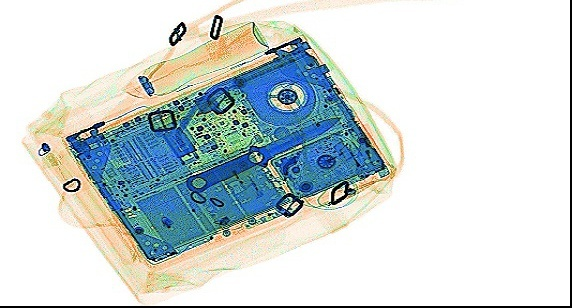knife: (183, 115, 339, 192)
lighter: (216, 142, 265, 200), (352, 121, 390, 178), (331, 139, 370, 178)
pressure: (118, 19, 268, 99)
